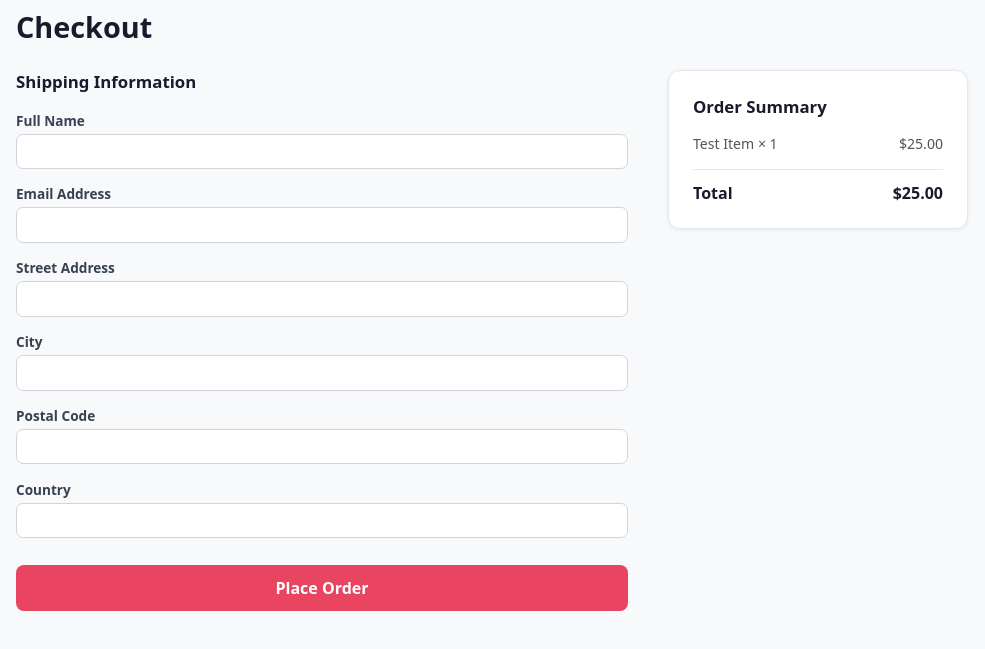
Test: Checkout › shows email format validation error
The width and height of the screenshot is (985, 649).
Step 1. Type "Jane Doe" into the field with id "fullName" → (322, 151), box [16,134,628,169]
Step 2. Type "not-an-email" into the field labelled "Email Address" → (322, 225), box [16,207,628,243]
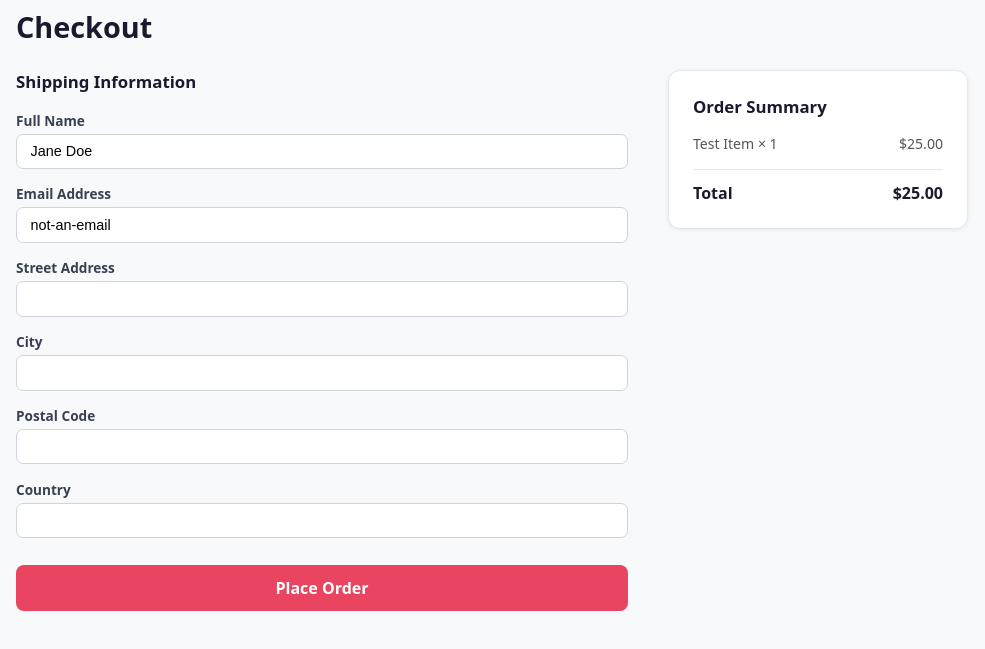
Step 3. Type "123 Main St" into the field labelled "Street Address" → (322, 299), box [16,281,628,317]
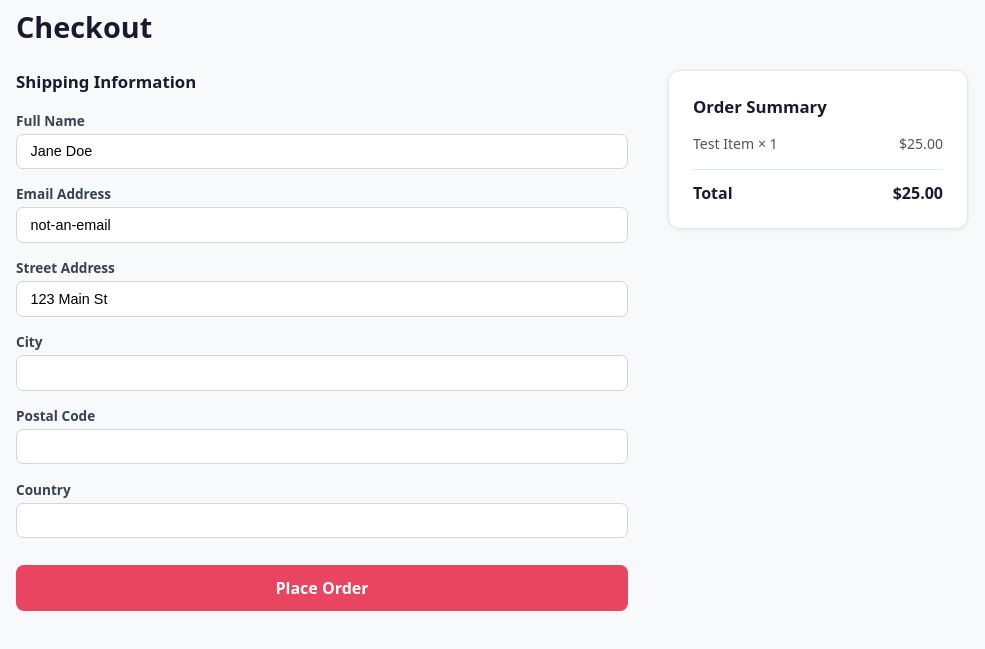
Step 4. Type "Springfield" into the field labelled "City" → (322, 373), box [16,355,628,390]
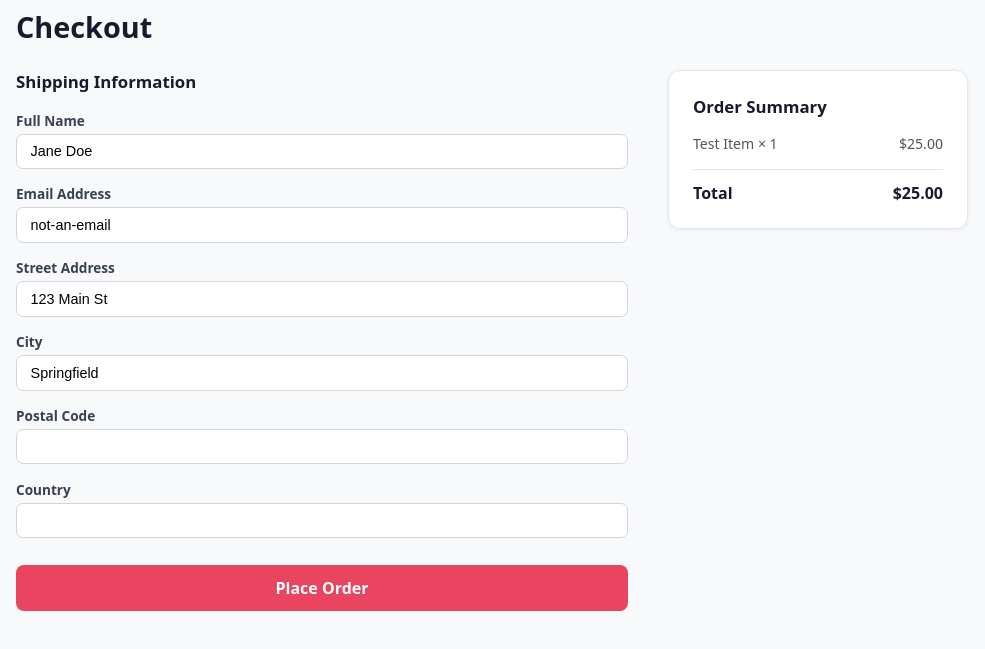
Step 5. Type "12345" into the field labelled "Postal Code" → (322, 446), box [16,429,628,464]
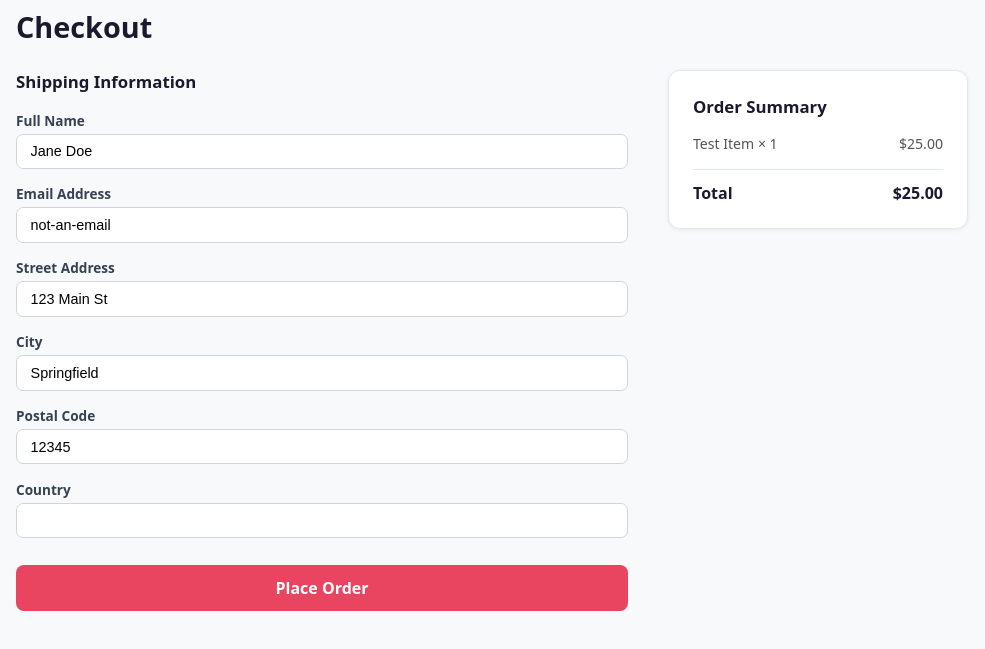
Step 6. Type "USA" into the field labelled "Country" → (322, 520), box [16,502,628,538]
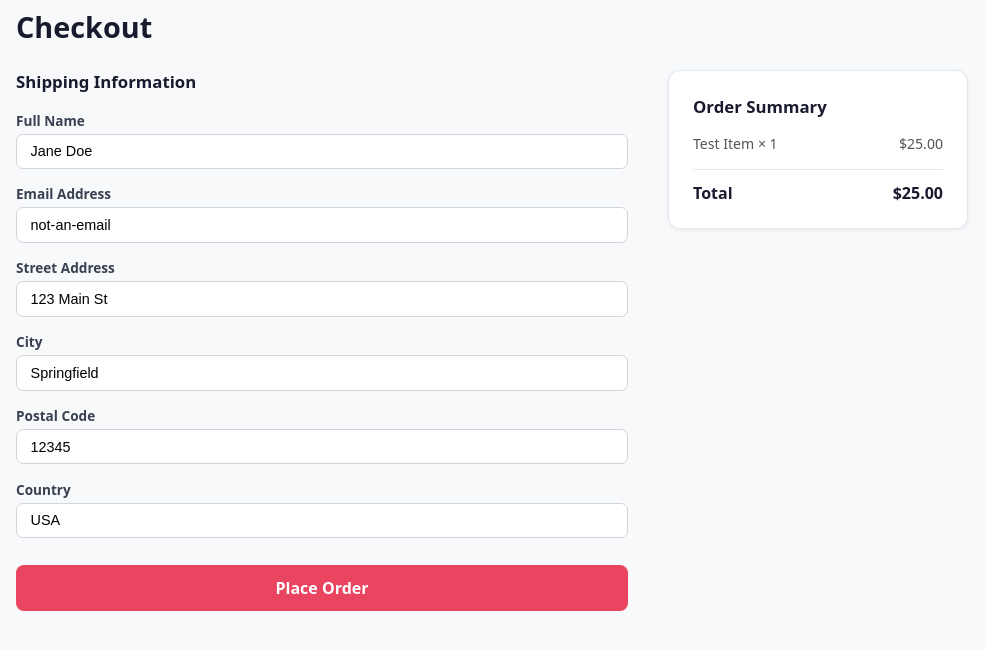
Step 7. Click the button "Place Order" → (322, 588), box [16,565,628,611]
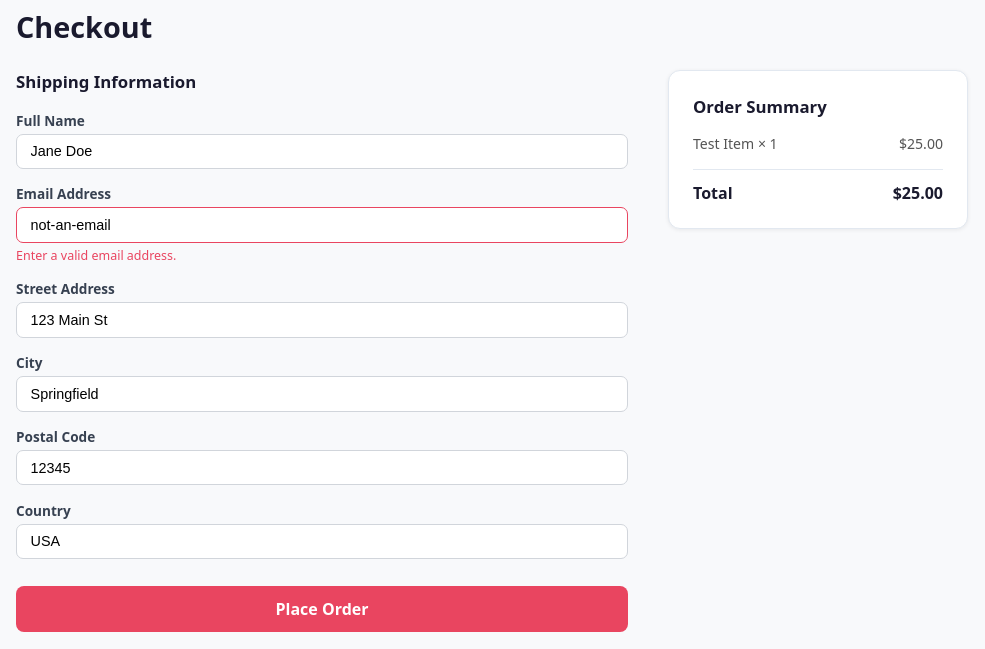
Check: the text "Enter a valid email address." is shown, box [16,247,176,264]
